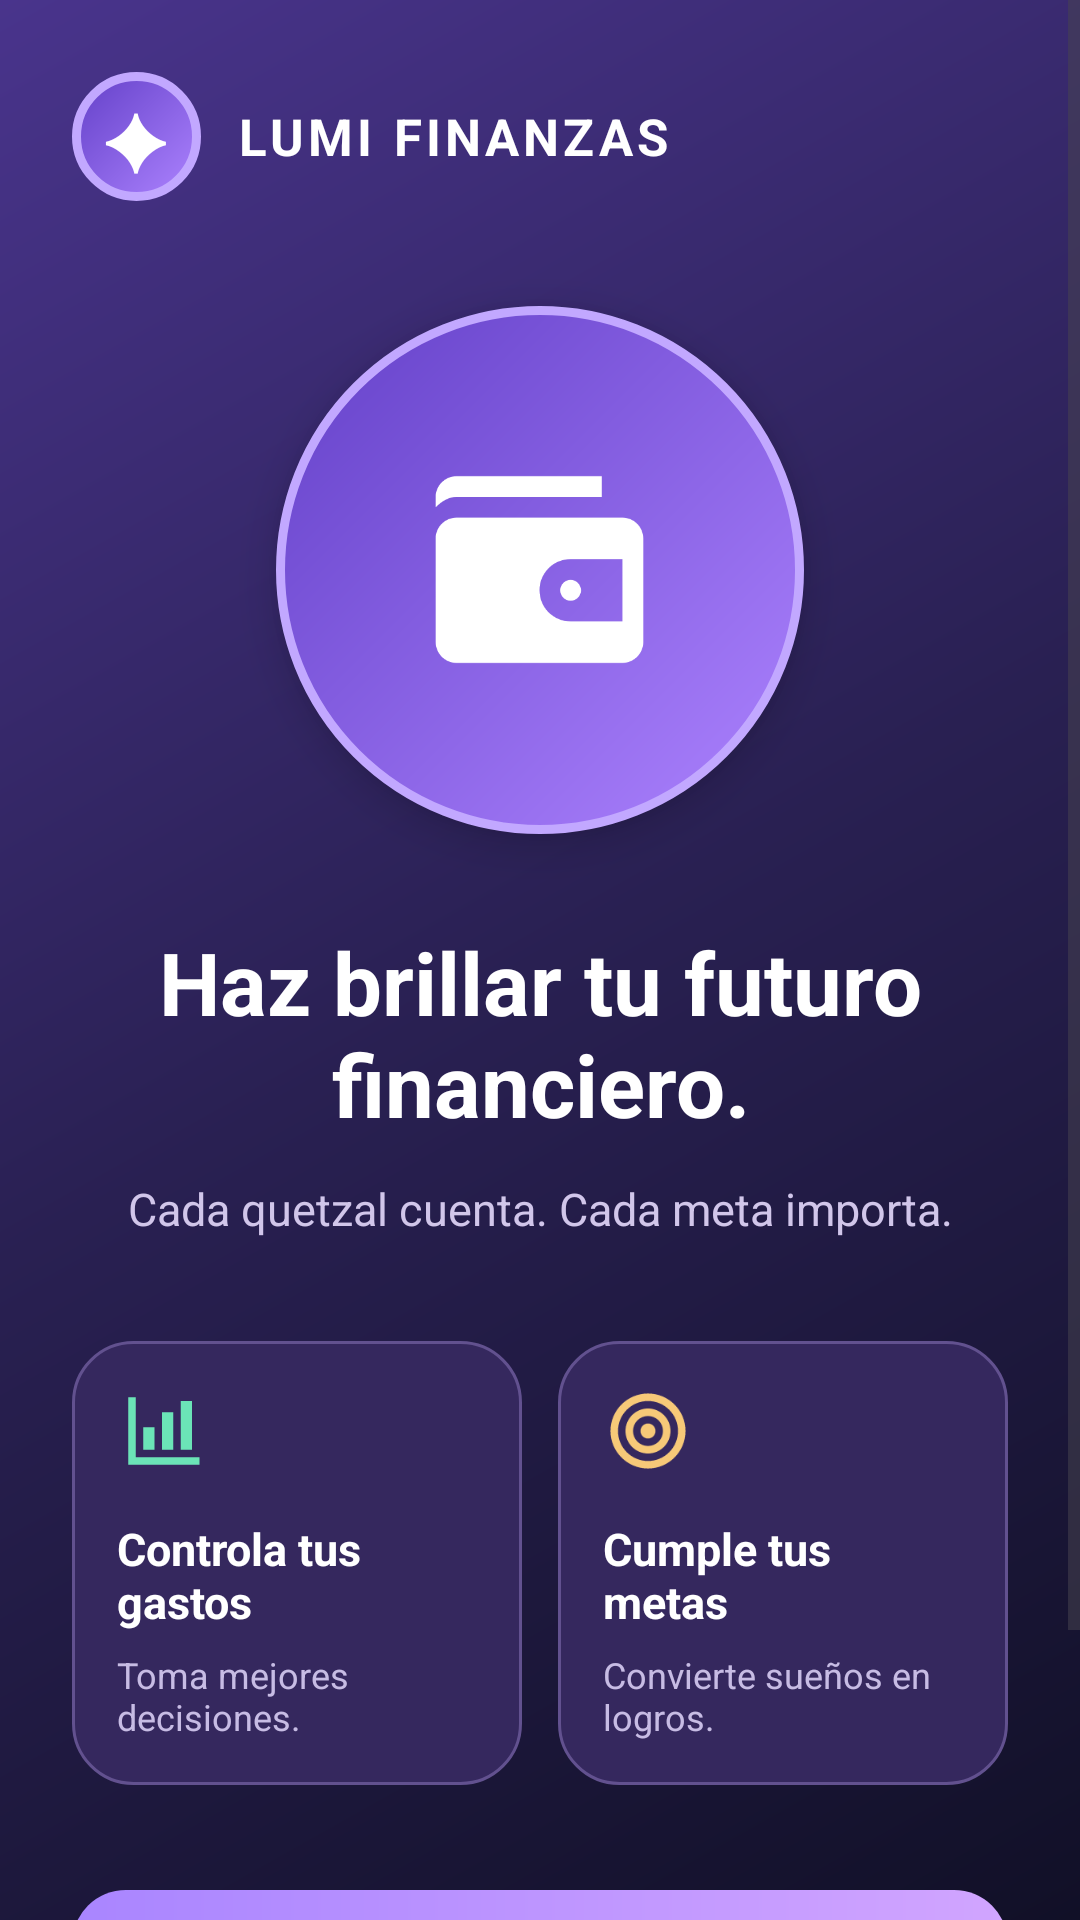

Icons on this 1080 × 1920 Android screen, each with its box as {"x1": x1, "y1": y1, "x2": x2, "y2": y2}:
Control de gastos: {"x1": 128, "y1": 1397, "x2": 200, "y2": 1465}
Metas de ahorro: {"x1": 610, "y1": 1393, "x2": 686, "y2": 1469}
